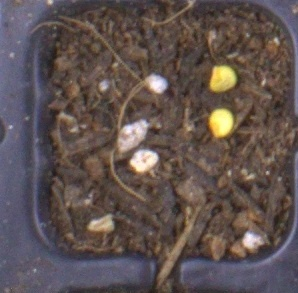chilli seed: (208, 64, 238, 94), (207, 107, 235, 138)
